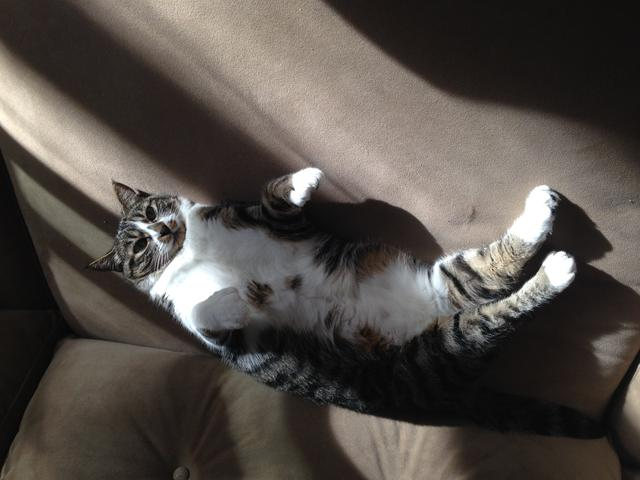playdoh: (86, 166, 606, 440)
